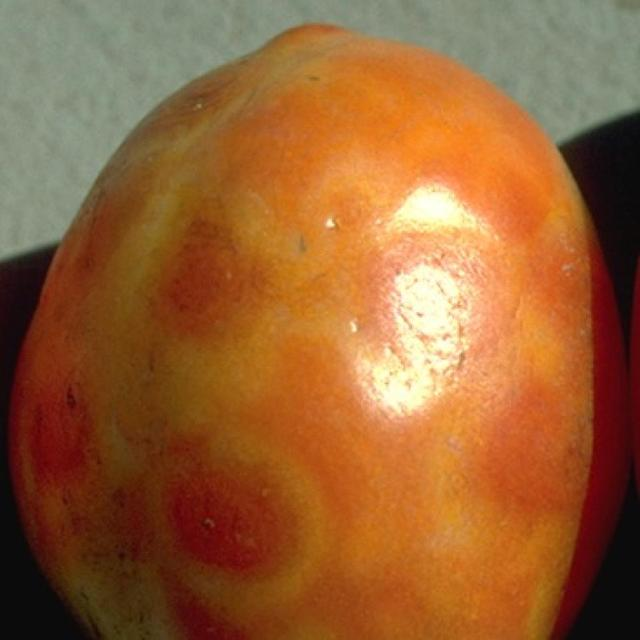Spotted wilt Virus Fruit: (7, 13, 416, 427)
